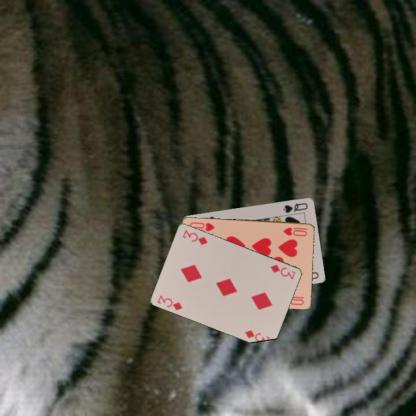10h: (280, 224, 308, 238)
3d: (155, 292, 184, 312), (268, 262, 297, 280)
Qs: (280, 200, 310, 214)
